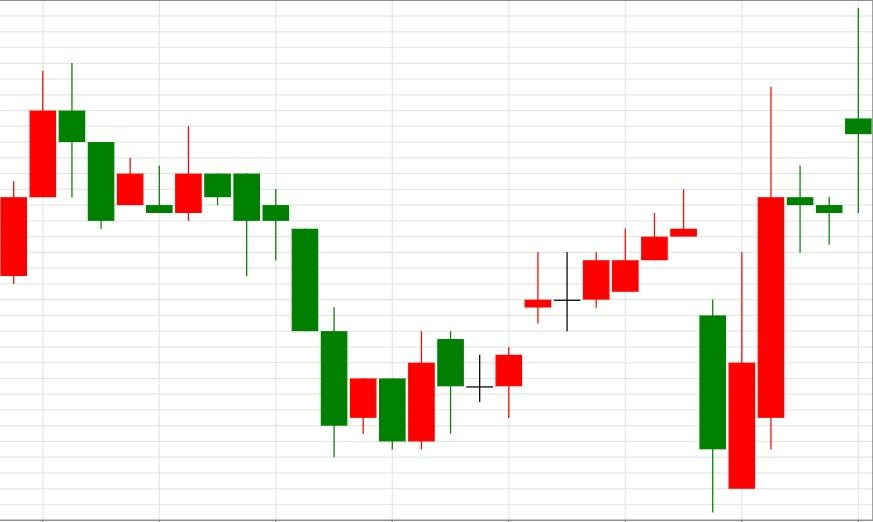bullish_engulfing_rise: (174, 125, 436, 457)
